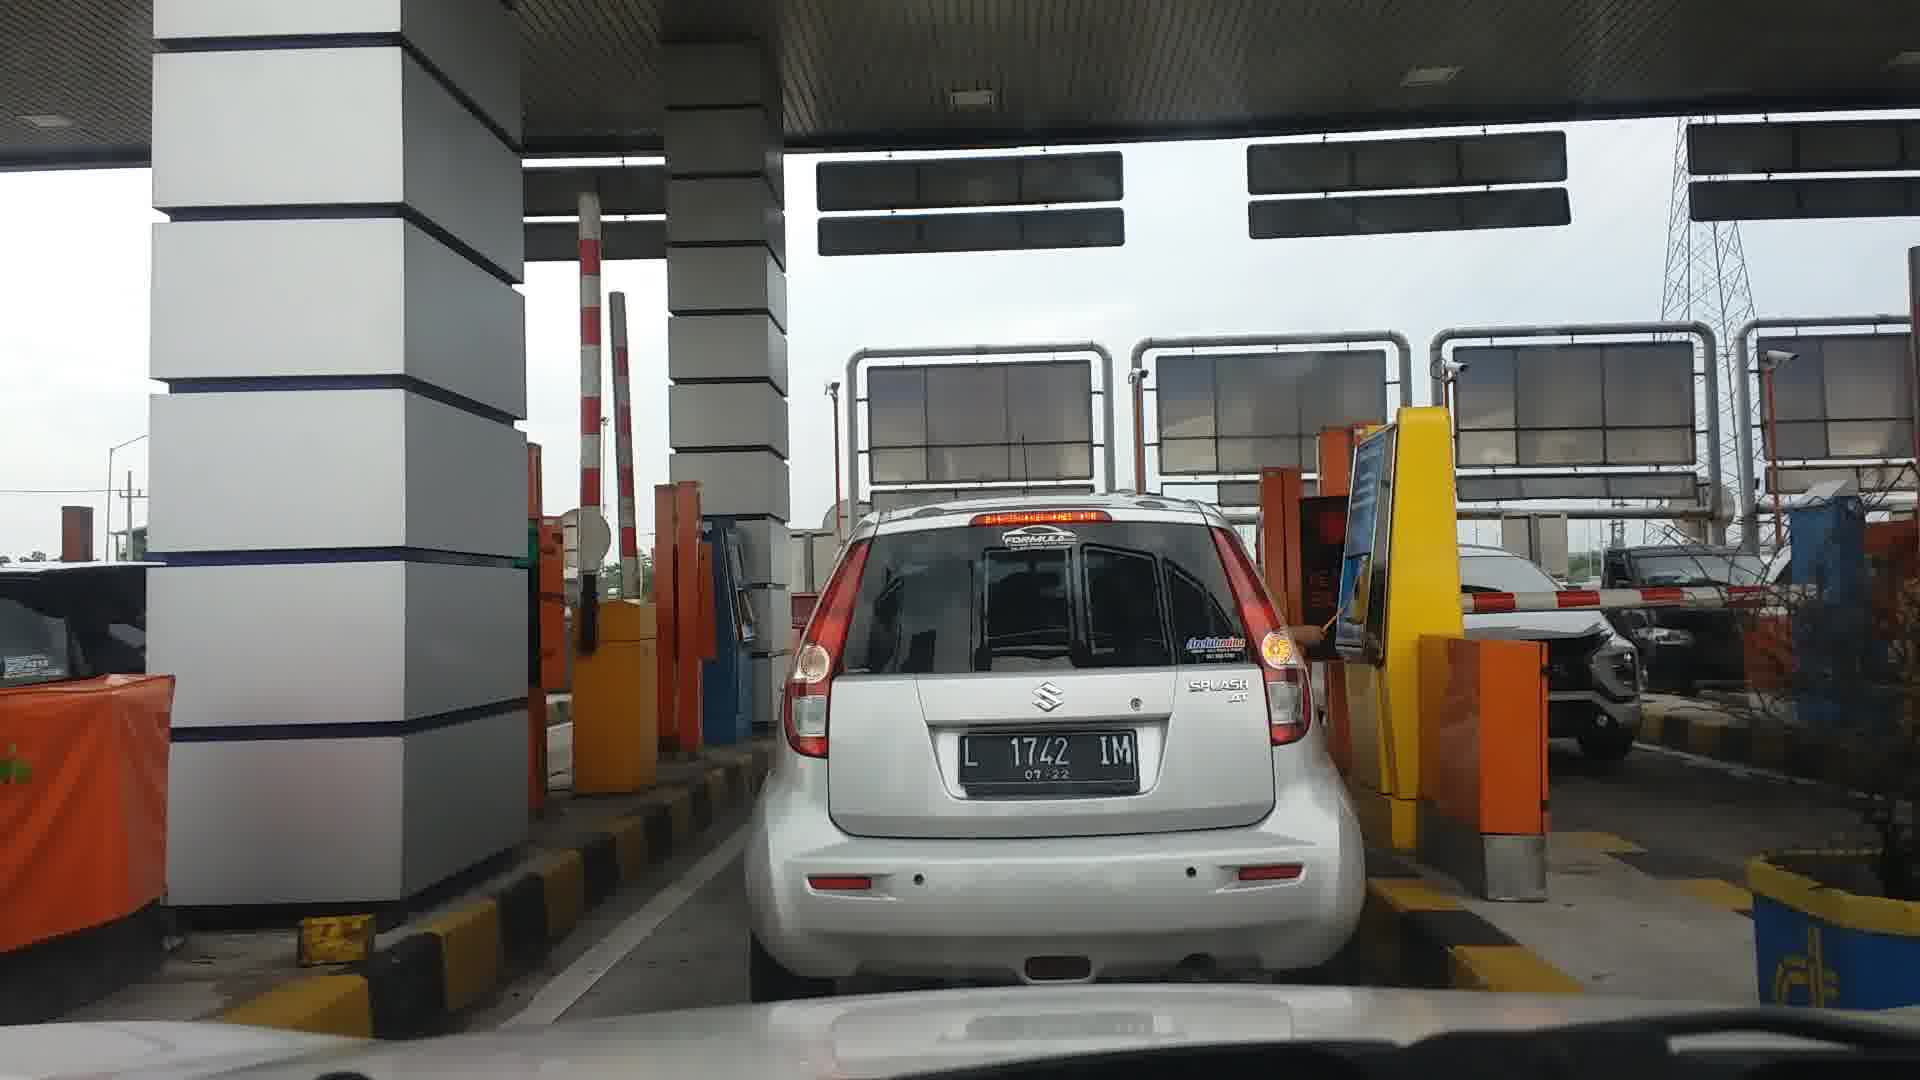plate_positive: (957, 729, 1141, 795)
